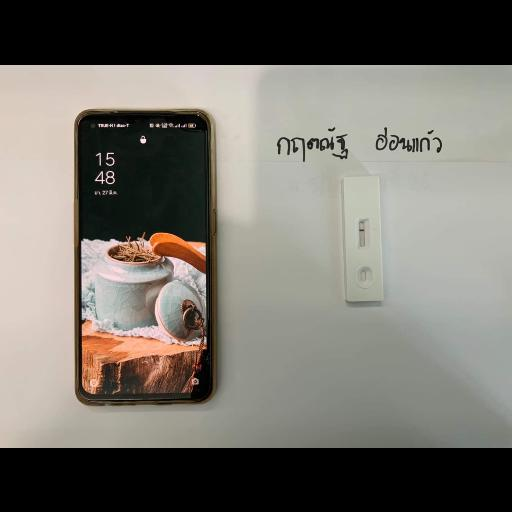Neg: (342, 176, 384, 298)
